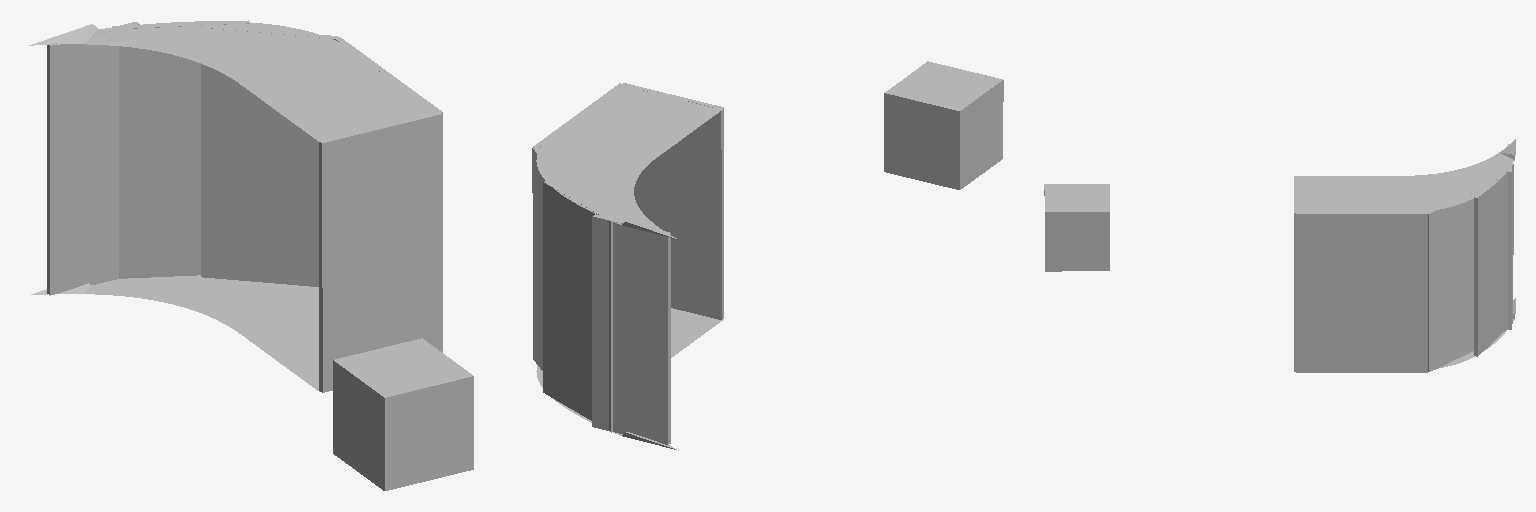
The robot description file, URDF, robot "universal_robot":
<?xml version="1.0" ?>
<!--FOR GRIPPER, THERE IS NO LINK INERTIA DEFINED HERE-->
<robot name="universal_robot" xmlns:xacro="http://ros.org/wiki/xacro">

  <link name="base_link">
    <visual>
      <geometry>
        <mesh filename="../meshes/ur5/visual/base.obj"/>
      </geometry>
      <material name="LightGrey">
        <color rgba="0.7 0.7 0.7 1.0"/>
      </material>
    </visual>
    <collision>
      <geometry>
        <mesh filename="../meshes/ur5/collision/base.stl"/>
      </geometry>
    </collision>
    <inertial>
      <mass value="4.0"/>
      <origin rpy="0 0 0" xyz="0.0 0.0 0.0"/>
      <inertia ixx="0.00443333156" ixy="0.0" ixz="0.0" iyy="0.00443333156" iyz="0.0" izz="0.0072"/>
    </inertial>
  </link>

  <joint name="shoulder_pan_joint" type="revolute">
    <parent link="base_link"/>
    <child link="shoulder_link"/>
    <origin rpy="0.0 0.0 0.0" xyz="0.0 0.0 0.089159"/>
    <axis xyz="0 0 1"/>
    <limit effort="150.0" lower="-6.28318530718" upper="6.28318530718" velocity="3.15"/>
    <dynamics damping="0.0" friction="0.0"/>
  </joint>
  <link name="shoulder_link">
    <visual>
      <geometry>
        <mesh filename="../meshes/ur5/visual/shoulder.obj"/>
      </geometry>
      <material name="LightGrey">
        <color rgba="0.7 0.7 0.7 1.0"/>
      </material>
    </visual>
    <collision>
      <geometry>
        <mesh filename="../meshes/ur5/collision/shoulder.stl"/>
      </geometry>
    </collision>
    <inertial>
      <mass value="3.7"/>
      <origin rpy="0 0 0" xyz="0.0 0.0 0.0"/>
      <inertia ixx="0.010267495893" ixy="0.0" ixz="0.0" iyy="0.010267495893" iyz="0.0" izz="0.00666"/>
    </inertial>
  </link>
  <joint name="shoulder_lift_joint" type="revolute">
    <parent link="shoulder_link"/>
    <child link="upper_arm_link"/>
    <origin rpy="0.0 1.57079632679 0.0" xyz="0.0 0.13585 0.0"/>
    <axis xyz="0 1 0"/>
    <limit effort="150.0" lower="-6.28318530718" upper="6.28318530718" velocity="3.15"/>
    <dynamics damping="0.0" friction="0.0"/>
  </joint>
  <link name="upper_arm_link">
    <visual>
      <geometry>
        <mesh filename="../meshes/ur5/visual/upperarm.obj"/>
      </geometry>
      <material name="LightGrey">
        <color rgba="0.7 0.7 0.7 1.0"/>
      </material>
    </visual>
    <collision>
      <geometry>
        <mesh filename="../meshes/ur5/collision/upperarm.stl"/>
      </geometry>
    </collision>
    <inertial>
      <mass value="8.393"/>
      <origin rpy="0 0 0" xyz="0.0 0.0 0.28"/>
      <inertia ixx="0.22689067591" ixy="0.0" ixz="0.0" iyy="0.22689067591" iyz="0.0" izz="0.0151074"/>
    </inertial>
  </link>
  <joint name="elbow_joint" type="revolute">
    <parent link="upper_arm_link"/>
    <child link="forearm_link"/>
    <origin rpy="0.0 0.0 0.0" xyz="0.0 -0.1197 0.425"/>
    <axis xyz="0 1 0"/>
    <limit effort="150.0" lower="-3.14159265359" upper="3.14159265359" velocity="3.15"/>
    <dynamics damping="0.0" friction="0.0"/>
  </joint>
  <link name="forearm_link">
    <visual>
      <geometry>
        <mesh filename="../meshes/ur5/visual/forearm.obj"/>
      </geometry>
      <material name="LightGrey">
        <color rgba="0.7 0.7 0.7 1.0"/>
      </material>
    </visual>
    <collision>
      <geometry>
        <mesh filename="../meshes/ur5/collision/forearm.stl"/>
      </geometry>
    </collision>
    <inertial>
      <mass value="2.275"/>
      <origin rpy="0 0 0" xyz="0.0 0.0 0.25"/>
      <inertia ixx="0.049443313556" ixy="0.0" ixz="0.0" iyy="0.049443313556" iyz="0.0" izz="0.004095"/>
    </inertial>
  </link>
  <joint name="wrist_1_joint" type="revolute">
    <parent link="forearm_link"/>
    <child link="wrist_1_link"/>
    <origin rpy="0.0 1.57079632679 0.0" xyz="0.0 0.0 0.39225"/>
    <axis xyz="0 1 0"/>
    <limit effort="28.0" lower="-6.28318530718" upper="6.28318530718" velocity="3.2"/>
    <dynamics damping="0.0" friction="0.0"/>
  </joint>
  <link name="wrist_1_link">
    <visual>
      <geometry>
        <mesh filename="../meshes/ur5/visual/wrist1.obj"/>
      </geometry>
      <material name="LightGrey">
        <color rgba="0.7 0.7 0.7 1.0"/>
      </material>
    </visual>
    <collision>
      <geometry>
        <mesh filename="../meshes/ur5/collision/wrist1.stl"/>
      </geometry>
    </collision>
    <inertial>
      <mass value="1.219"/>
      <origin rpy="0 0 0" xyz="0.0 0.0 0.0"/>
      <inertia ixx="0.111172755531" ixy="0.0" ixz="0.0" iyy="0.111172755531" iyz="0.0" izz="0.21942"/>
    </inertial>
  </link>
  <joint name="wrist_2_joint" type="revolute">
    <parent link="wrist_1_link"/>
    <child link="wrist_2_link"/>
    <origin rpy="0.0 0.0 0.0" xyz="0.0 0.093 0.0"/>
    <axis xyz="0 0 1"/>
    <limit effort="28.0" lower="-6.28318530718" upper="6.28318530718" velocity="3.2"/>
    <dynamics damping="0.0" friction="0.0"/>
  </joint>
  <link name="wrist_2_link">
    <visual>
      <geometry>
        <mesh filename="../meshes/ur5/visual/wrist2.obj"/>
      </geometry>
      <material name="LightGrey">
        <color rgba="0.7 0.7 0.7 1.0"/>
      </material>
    </visual>
    <collision>
      <geometry>
        <mesh filename="../meshes/ur5/collision/wrist2.stl"/>
      </geometry>
    </collision>
    <inertial>
      <mass value="1.219"/>
      <origin rpy="0 0 0" xyz="0.0 0.0 0.0"/>
      <inertia ixx="0.111172755531" ixy="0.0" ixz="0.0" iyy="0.111172755531" iyz="0.0" izz="0.21942"/>
    </inertial>
  </link>
  <joint name="wrist_3_joint" type="revolute">
    <parent link="wrist_2_link"/>
    <child link="wrist_3_link"/>
    <origin rpy="0.0 0.0 0.0" xyz="0.0 0.0 0.09465"/>
    <axis xyz="0 1 0"/>
    <limit effort="28.0" lower="-6.28318530718" upper="6.28318530718" velocity="3.2"/>
    <dynamics damping="0.0" friction="0.0"/>
  </joint>
  <link name="wrist_3_link">
    <visual>
      <geometry>
        <mesh filename="../meshes/ur5/visual/wrist3.obj"/>
      </geometry>
      <material name="LightGrey">
        <color rgba="0.7 0.7 0.7 1.0"/>
      </material>
    </visual>
    <collision>
      <geometry>
        <mesh filename="../meshes/ur5/collision/wrist3.stl"/>
      </geometry>
    </collision>
    <inertial>
      <mass value="0.1879"/>
      <origin rpy="0 0 0" xyz="0.0 0.0 0.0"/>
      <inertia ixx="0.0171364731454" ixy="0.0" ixz="0.0" iyy="0.0171364731454" iyz="0.0" izz="0.033822"/>
    </inertial>
  </link>
  <joint name="ee_fixed_joint" type="fixed">
    <parent link="wrist_3_link"/>
    <child link="ee_link"/>
    <origin rpy="0.0 0.0 1.57079632679" xyz="0.0 0.0823 0.0"/>
  </joint>
  <link name="ee_link">
    <collision>
      <geometry>
        <box size="0.01 0.01 0.01"/>
      </geometry>
      <origin rpy="0 0 0" xyz="-0.01 0 0"/>
    </collision>
  </link>
  
  <!--
  <joint name="scoop_base_joint" type="fixed">
    <parent link="ee_link"/>
    <child link="scoop_base_link"/>
    <origin rpy="0 1.57079632679 0" xyz="-0.15 -0.02 0.04"/>
  </joint>-->


  <!-- Link representing the base of the shovel -->
  <link name="slove_base_link">
    <visual>
      <geometry>
        <box size="0.0 0.00 0.0"/>
      </geometry>
      <material name="grey">
        <color rgba="0.7 0.7 0 1.0"/>
      </material>
    </visual>
    <collision>
      <geometry>
        <box size="0.0 0.0 0.0"/>
      </geometry>
    </collision>
    <inertial>
      <mass value="0.5"/>
      <origin rpy="0 0 0" xyz="0.0 0.0 0.0"/>
      <inertia ixx="0.0002" ixy="0.0" ixz="0.0" iyy="0.0002" iyz="0.0" izz="0.0004"/>
    </inertial>
  </link>

  <!-- Link representing the blade of the shovel -->
  <link name="blade_link">
    <visual>
      <geometry>
        <box size="0.06 0.002 0.08"/>
      </geometry>
      <material name="silver">
        <color rgba="0.8 0.8 0.8 1.0"/>
      </material>
    </visual>
    <collision>
      <geometry>
        <box size="0.06 0.002 0.08"/>
      </geometry>
    </collision>
    <inertial>
      <mass value="0.2"/>
      <origin rpy="0 0 0" xyz="0.0 0.0 -0.025"/>
      <inertia ixx="0.0001" ixy="0.0" ixz="0.0" iyy="0.0001" iyz="0.0" izz="0.0002"/>
    </inertial>
  </link>  <!-- Link representing the blade of the shovel -->

  <link name="blade_link_side1">
    <visual>
      <geometry>
        <mesh filename="package://pybullet/meshes/slove/sloves_side.stl"/>
      </geometry>
      <material name="silver">
        <color rgba="0.8 0.8 0.8 1.0"/>
      </material>
    </visual>
    <collision>
      <geometry>
        <mesh filename="package://pybullet/meshes/slove/sloves_side.stl"/>
      </geometry>
    </collision>
    <inertial>
      <mass value="0.2"/>
      <origin rpy="0 0 0" xyz="0.0 0.0 -0.025"/>
      <inertia ixx="0.0001" ixy="0.0" ixz="0.0" iyy="0.0001" iyz="0.0" izz="0.0002"/>
    </inertial>
  </link>

    <link name="blade_link_side2">
    <visual>
      <geometry>
        <mesh filename="package://pybullet/meshes/slove/sloves_side.stl"/>
      </geometry>
      <material name="silver">
        <color rgba="0.8 0.8 0.8 1.0"/>
      </material>
    </visual>
    <collision>
      <geometry>
        <mesh filename="package://pybullet/meshes/slove/sloves_side.stl"/>
      </geometry>
    </collision>
    <inertial>
      <mass value="0.2"/>
      <origin rpy="0 0 0" xyz="0.0 0.0 -0.025"/>
      <inertia ixx="0.0001" ixy="0.0" ixz="0.0" iyy="0.0001" iyz="0.0" izz="0.0002"/>
    </inertial>
  </link>

    <link name="blade_link_bot">
    <visual>
      <geometry>
        <box size="0.08 0.002 0.04"/>
      </geometry>
      <material name="silver">
        <color rgba="0.8 0.8 0.8 1.0"/>
      </material>
    </visual>
    <collision>
      <geometry>
        <box size="0.08 0.002 0.04"/>
      </geometry>
    </collision>
    <inertial>
      <mass value="0.2"/>
      <origin rpy="0 0 0" xyz="0.0 0.0 -0.025"/>
      <inertia ixx="0.0001" ixy="0.0" ixz="0.0" iyy="0.0001" iyz="0.0" izz="0.0002"/>
    </inertial>
  </link>


    <link name="blade_link_top1">
    <visual>
      <geometry>
        <box size="0.08 0.002 0.04"/>
      </geometry>
      <material name="silver">
        <color rgba="0.8 0.8 0.8 1.0"/>
      </material>
    </visual>
    <collision>
      <geometry>
        <box size="0.08 0.002 0.04"/>
      </geometry>
    </collision>
    <inertial>
      <mass value="0.2"/>
      <origin rpy="0 0 0" xyz="0.0 0.0 -0.025"/>
      <inertia ixx="0.0001" ixy="0.0" ixz="0.0" iyy="0.0001" iyz="0.0" izz="0.0002"/>
    </inertial>
  </link>

    <link name="blade_link_top2">
    <visual>
      <geometry>
        <box size="0.08 0.002 0.04"/>
      </geometry>
      <material name="silver">
        <color rgba="0.8 0.8 0.8 1.0"/>
      </material>
    </visual>
    <collision>
      <geometry>
        <box size="0.08 0.002 0.04"/>
      </geometry>
    </collision>
    <inertial>
      <mass value="0.2"/>
      <origin rpy="0 0 0" xyz="0.0 0.0 -0.025"/>
      <inertia ixx="0.0001" ixy="0.0" ixz="0.0" iyy="0.0001" iyz="0.0" izz="0.0002"/>
    </inertial>
  </link>

  <link name="blade_link_top3">
    <visual>
      <geometry>
        <box size="0.08 0.002 0.03"/>
      </geometry>
      <material name="silver">
        <color rgba="0.8 0.8 0.8 1.0"/>
      </material>
    </visual>
    <collision>
      <geometry>
        <box size="0.08 0.002 0.03"/>
      </geometry>
    </collision>
    <inertial>
      <mass value="0.2"/>
      <origin rpy="0 0 0" xyz="0.0 0.0 -0.025"/>
      <inertia ixx="0.0001" ixy="0.0" ixz="0.0" iyy="0.0001" iyz="0.0" izz="0.0002"/>
    </inertial>
  </link>

  <!-- Joint connecting the base and blade -->
  <joint name="joint_base_blade" type="fixed">
    <parent link="slove_base_link"/>
    <child link="blade_link"/>
    <origin rpy="0 0 0" xyz="0.09 0.02 0.0"/>
  </joint>  
  <joint name="joint_base_blade_side1" type="fixed">
    <parent link="slove_base_link"/>
    <child link="blade_link_side1"/>
    <origin rpy="3.14 0 0" xyz="0.06 0.02 0.04"/>
  </joint>

  <joint name="joint_base_blade_side2" type="fixed">
    <parent link="slove_base_link"/>
    <child link="blade_link_side2"/>
    <origin rpy="3.14 0 0" xyz="0.06 0.02 -0.04"/>
  </joint>

  <joint name="joint_base_blade_bot" type="fixed">
    <parent link="slove_base_link"/>
    <child link="blade_link_bot"/>
    <origin rpy="1.57 1.57 0" xyz="0.06 0.0 0"/>
  </joint>


  <joint name="joint_base_blade_top1" type="fixed">
    <parent link="slove_base_link"/>
    <child link="blade_link_top1"/>
    <origin rpy="0.85 1.57 0" xyz="0.133 0.005 0"/>
  </joint>
  <joint name="joint_base_blade_top2" type="fixed">
    <parent link="slove_base_link"/>
    <child link="blade_link_top2"/>
    <origin rpy="1.15 1.57 0" xyz="0.15 -0.015 0"/>
  </joint>
  <joint name="joint_base_blade_top3" type="fixed">
    <parent link="slove_base_link"/>
    <child link="blade_link_top3"/>
    <origin rpy="1.57 1.57 0" xyz="0.1575 -0.04 0"/>
  </joint>


  <joint name="scoop_base_joint" type="fixed">
    <parent link="ee_link"/>
    <child link="slove_base_link"/>
    <origin rpy="0 0 0" xyz="-0.06 0.0 0.0"/>
  </joint>


  <link name="cam1">
    <visual>
      <geometry>
        <box size="0.03 0.03 0.03"/>
      </geometry>
      <material name="silver">
        <color rgba="0.8 0.8 0.8 1.0"/>
      </material>
    </visual>
    <inertial>
      <origin rpy="0 0 0" xyz="0 0 0"/>
       <mass value="0.0"/>
       <inertia ixx="0.1" ixy="0" ixz="0" iyy="0.1" iyz="0" izz="0.1"/>
    </inertial>
  </link>

  <joint name="cam_p" type="fixed">
    <parent link="ee_link"/>
    <child link="cam1"/>
    <origin rpy="0 3.14 3.14" xyz="-0.1 -0.05 0.0"/>
  
  </joint>
  <link name="cam2">
    <inertial>
      <origin rpy="0 0 0" xyz="0 0 0"/>
       <mass value="0.0"/>
       <inertia ixx="0.1" ixy="0" ixz="0" iyy="0.1" iyz="0" izz="0.1"/>
    </inertial>
  </link>
  <joint name="cam_p2" type="fixed">
    <parent link="cam1"/>
    <child link="cam2"/>
    <origin rpy="0 0 0" xyz="0.1 0 0"/>
  
  </joint>
</robot>

--- What the picture shows (computed from the rendered views, not written in the file) ---
3 views of the same robot in one strip: view 1: azimuth 30°, elevation 25°; view 2: azimuth 150°, elevation 25°; view 3: azimuth 270°, elevation 25° (orthographic).
Model universal_robot with 18 links and 17 joints (6 revolute, 11 fixed), rooted at base_link, posed every joint at zero.
Links seen in each view (by area): view 1: blade_link_bot, blade_link_top1, blade_link_top2, blade_link_side2, cam1, blade_link_top3, blade_link_side1, blade_link; view 2: blade_link_top3, blade_link_side2, cam1, blade_link_bot, blade_link_top2, blade_link_top1, blade_link_side1; view 3: blade_link, blade_link_top1, blade_link_side2, blade_link_top2, cam1, blade_link_top3.
Boxes of the visible links, <box> form: blade_link_bot: <box>319,112,441,392</box>; blade_link_top1: <box>201,25,337,286</box>; blade_link_top2: <box>112,20,248,278</box>; blade_link_side2: <box>29,21,434,141</box>; cam1: <box>333,338,473,490</box>; blade_link_top3: <box>47,22,139,295</box>; blade_link_side1: <box>31,275,319,391</box>; blade_link: <box>335,37,442,352</box>; blade_link_top3: <box>592,214,670,444</box>; blade_link_side2: <box>536,86,722,239</box>; cam1: <box>884,61,1003,189</box>; blade_link_bot: <box>623,83,723,319</box>; blade_link_top2: <box>543,181,612,432</box>; blade_link_top1: <box>532,147,574,370</box>; blade_link_side1: <box>536,308,722,450</box>; blade_link: <box>1296,212,1427,372</box>; blade_link_top1: <box>1426,185,1485,371</box>; blade_link_side2: <box>1299,139,1515,211</box>; blade_link_top2: <box>1474,164,1513,356</box>; cam1: <box>1044,184,1109,271</box>; blade_link_top3: <box>1508,144,1511,329</box>.
Size in the robot's own frame: 0.086 by 0.215 by 0.082 metres.
Meshes: 8 distinct files referenced, 2 mesh visuals loaded (1 binary STL); not drawn: 7 (reference not matched to a file when rendering).